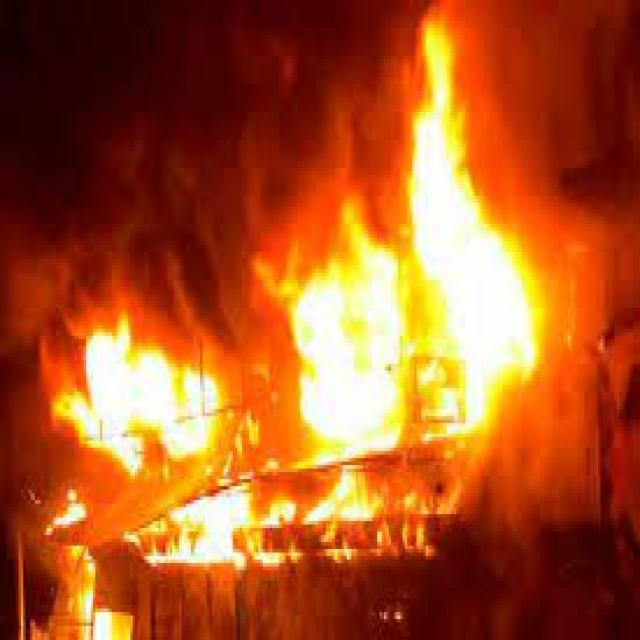Fire: (416, 174, 534, 410), (294, 284, 425, 447), (98, 340, 206, 448)
Smoke: (2, 0, 639, 311)
